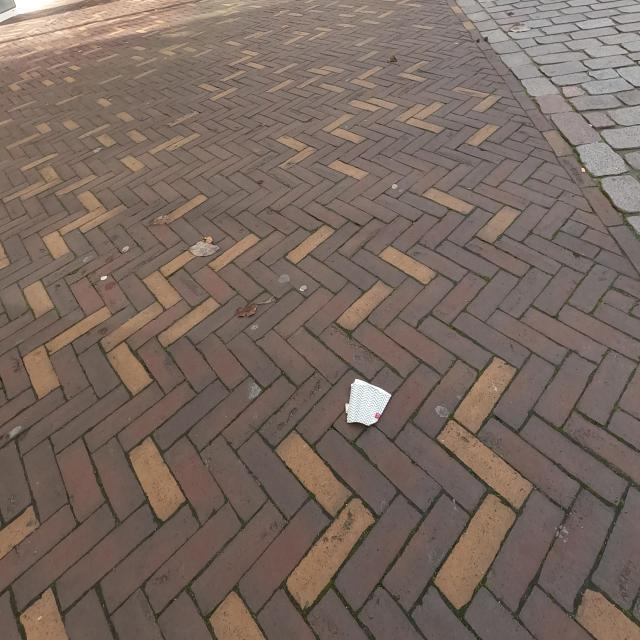Cup: (350, 376, 390, 427)
